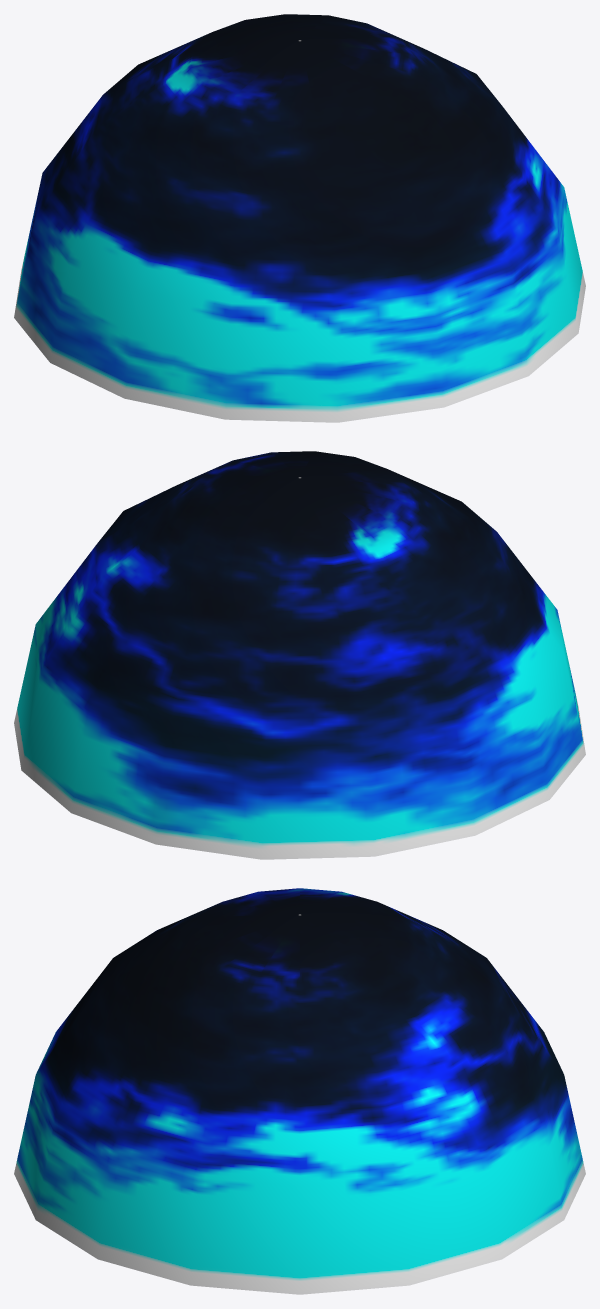
The model's file is Shield.FBX.
The picture shows the model from 3 angles, top to bottom: view 1: azimuth 30°, elevation 25°; view 2: azimuth 150°, elevation 25°; view 3: azimuth 270°, elevation 25°; orthographic projection.
Parts seen in each view (by area): view 1: Sphere001; view 2: Sphere001; view 3: Sphere001.
Boxes of the visible parts, <box> form: Sphere001: <box>14,14,585,422</box>; Sphere001: <box>14,451,585,859</box>; Sphere001: <box>14,888,585,1294</box>.
Bounding box in the file's own units: 2.54 × 1.27 × 2.54.
